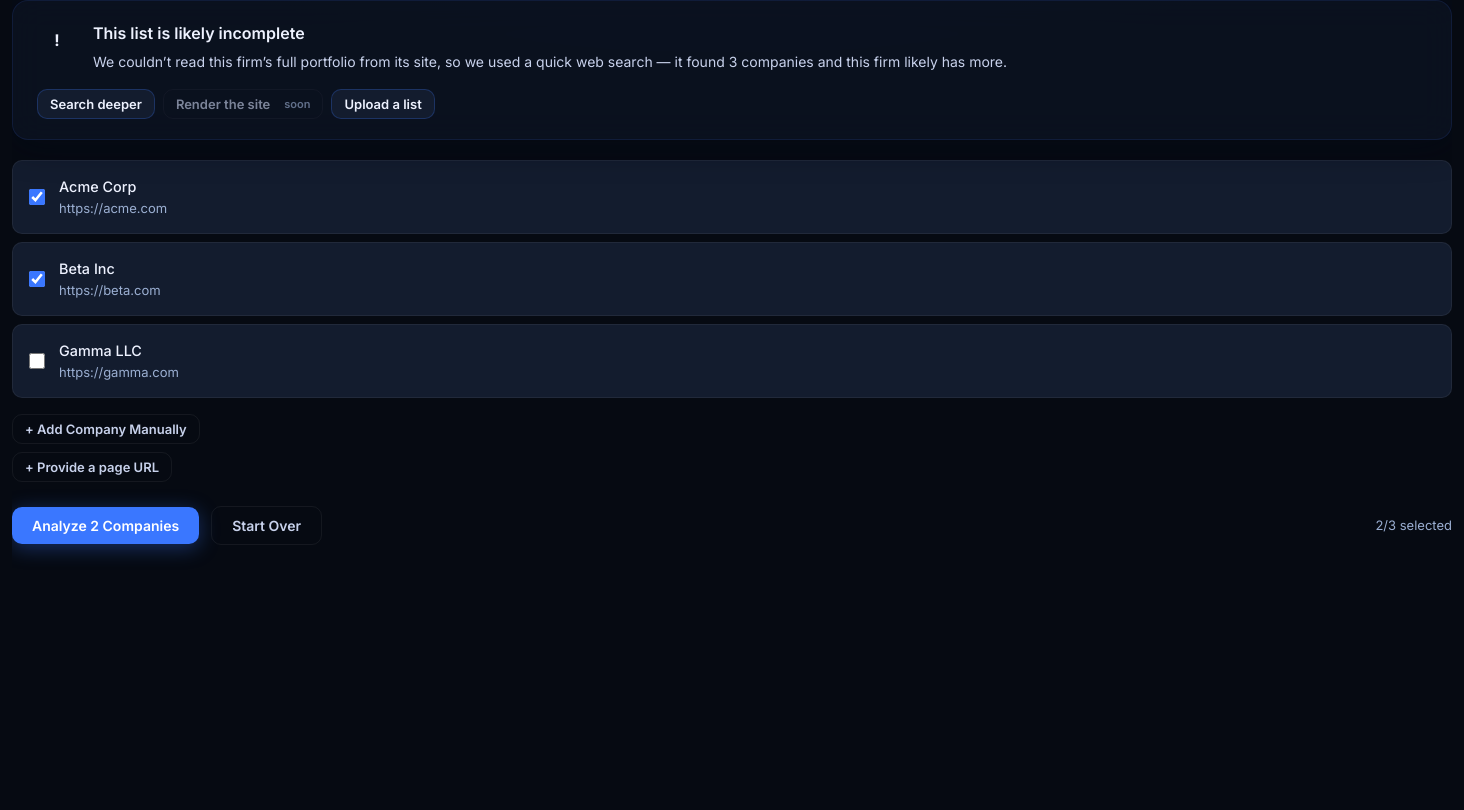
Test: PortfolioConfirmPhase › discovery verdict › reveals the upload widget when "Upload a list" is clicked
Click the button "Upload a list": click(383, 104) [332,89,435,119]
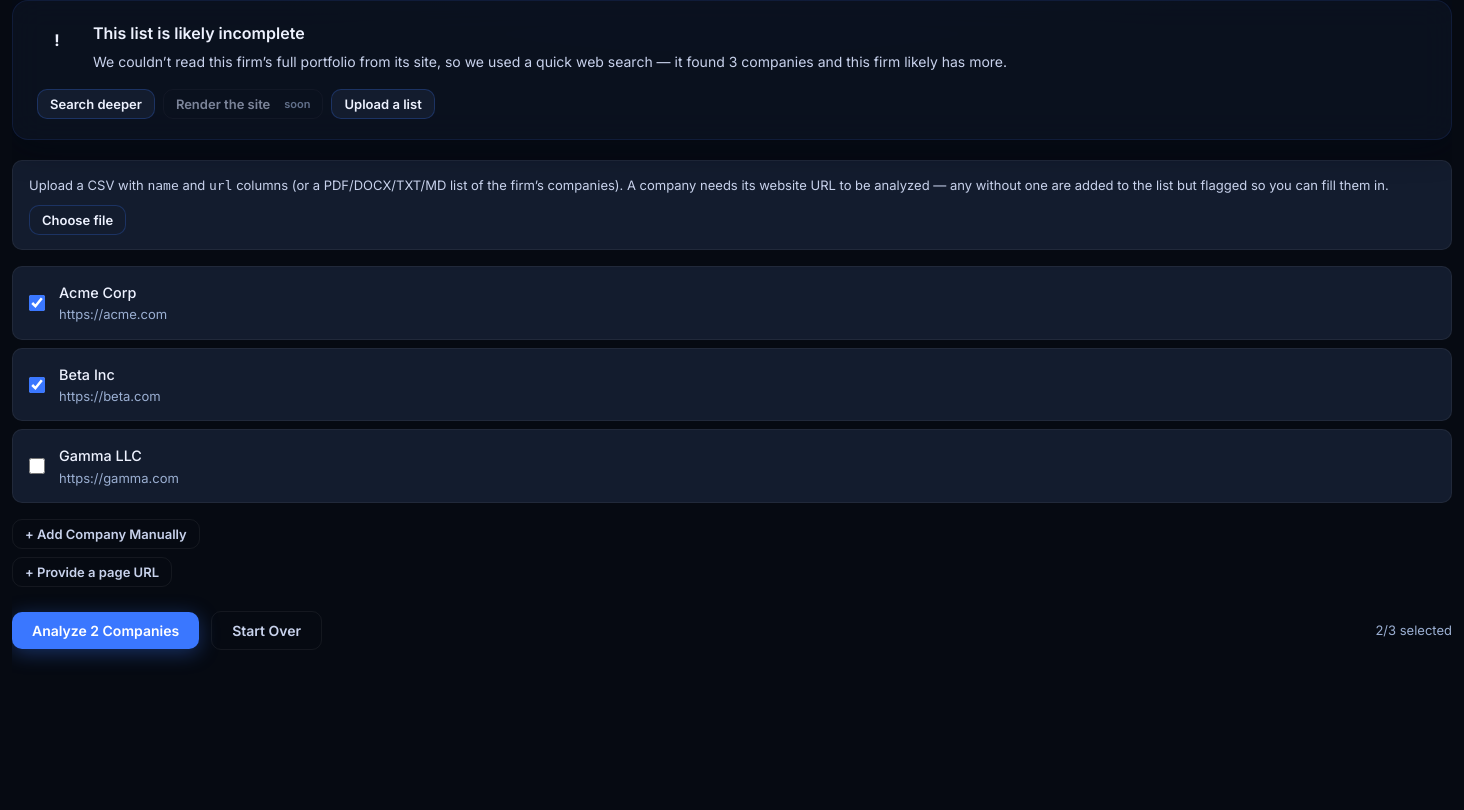
Expected: the element named "Company list file" is shown, [29,205,126,235]
